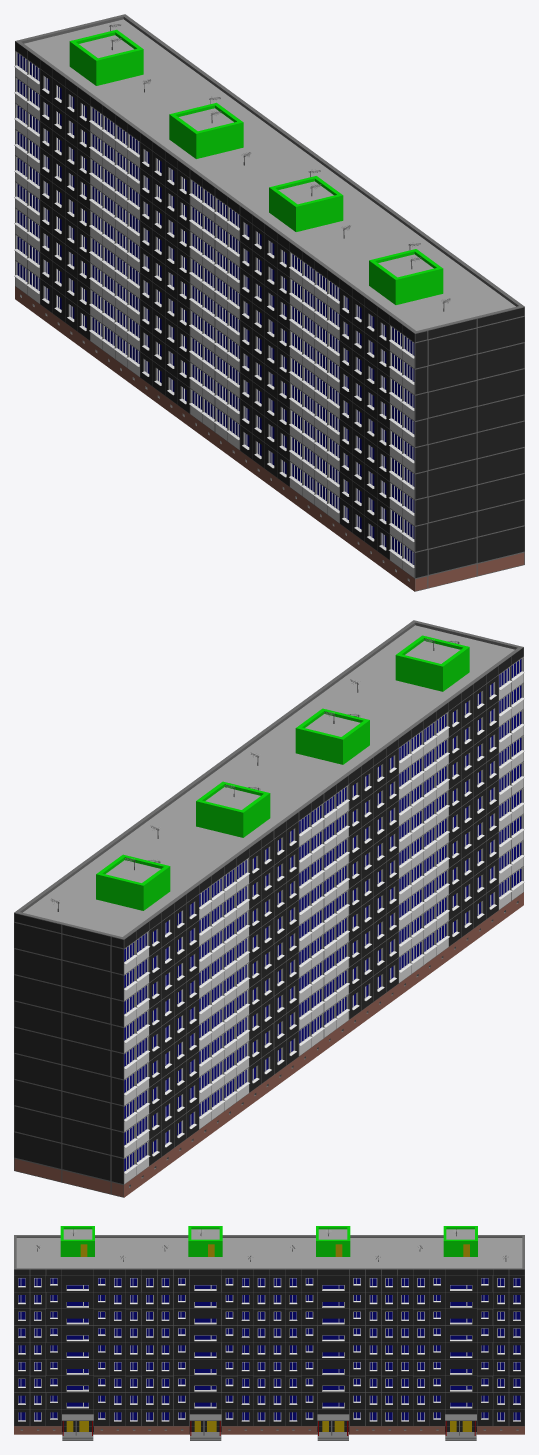
File: Zdanie complete.fbx
The picture shows the model from 3 angles, top to bottom: view 1: azimuth 30°, elevation 25°; view 2: azimuth 150°, elevation 25°; view 3: azimuth 270°, elevation 25°; orthographic projection. The views are drawn at different scales.
Parts seen in each view (by area): view 1: Zdanie_building1, Top_and_bottom, Roof_room4; view 2: Zdanie_building1, Top_and_bottom, Roof_room4; view 3: Zdanie_building1, Top_and_bottom, Roof_room4, Doors_bottom3, Door_upper3.
Boxes of the visible parts, box(x1,y1,x2,y2) form: Zdanie_building1: box(14, 14, 524, 591); Top_and_bottom: box(24, 19, 515, 330); Roof_room4: box(69, 29, 443, 304); Zdanie_building1: box(14, 620, 524, 1197); Top_and_bottom: box(23, 625, 514, 936); Roof_room4: box(96, 635, 469, 910); Zdanie_building1: box(14, 1235, 524, 1440); Top_and_bottom: box(16, 1238, 522, 1268); Roof_room4: box(60, 1226, 477, 1256); Doors_bottom3: box(66, 1421, 471, 1431); Door_upper3: box(80, 1244, 469, 1256).
Size of the model in its own units: 1679 by 3496 by 8800.
